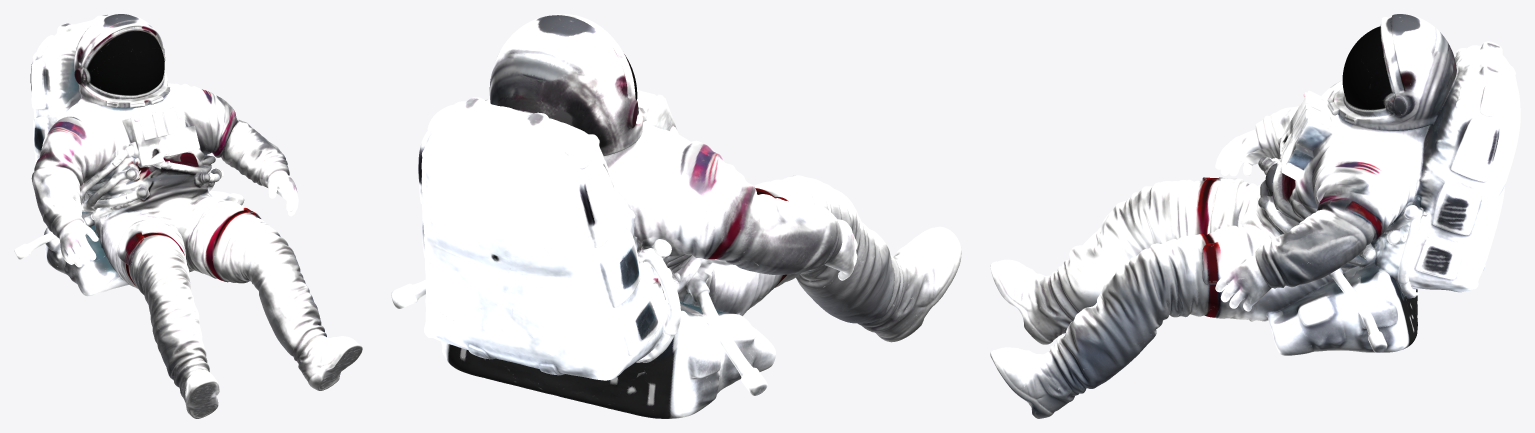
Rendered from floating-astronaut.glb.
3 renders of one model, left to right at view 1: azimuth 30°, elevation 25°; view 2: azimuth 150°, elevation 25°; view 3: azimuth 270°, elevation 25°, orthographic. The views are drawn at different scales.
Size of the model in its own units: 1.25 by 1.43 by 1.9.
Materials: 1 (1 with a texture image).
